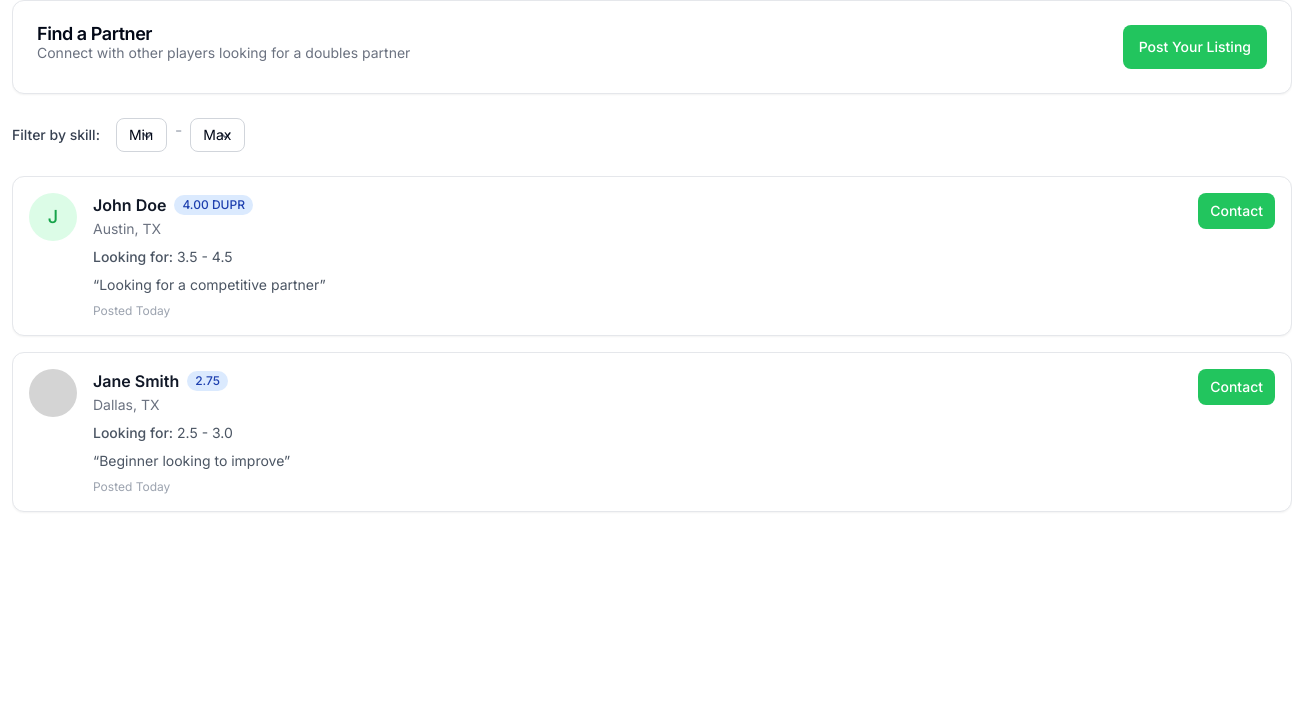
Scenario: PartnerMarketplace › Skill Filter › shows clear button when filters are applied
The image size is (1292, 720).
Select "3.5" in the dropdown named "minimum skill level". click: (141, 135)
box: [116,118,167,152]
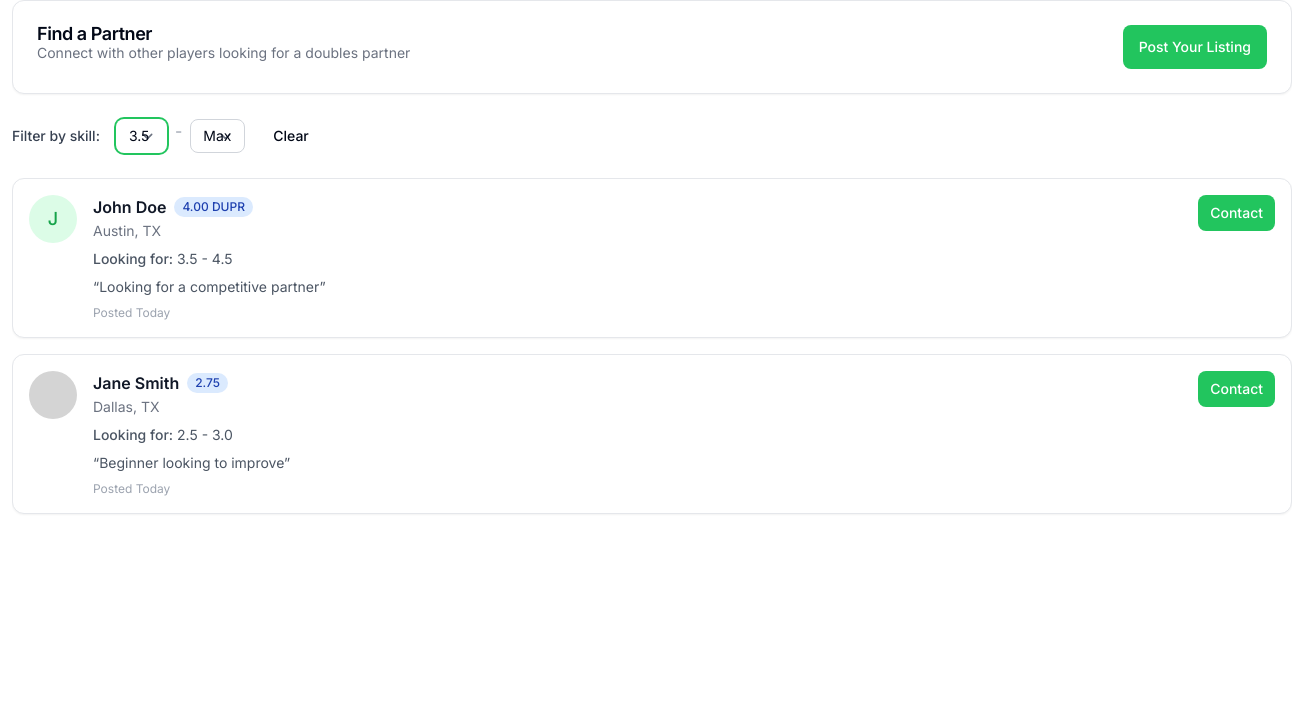
Expected: the button "Clear" is shown, [261,118,321,154]
